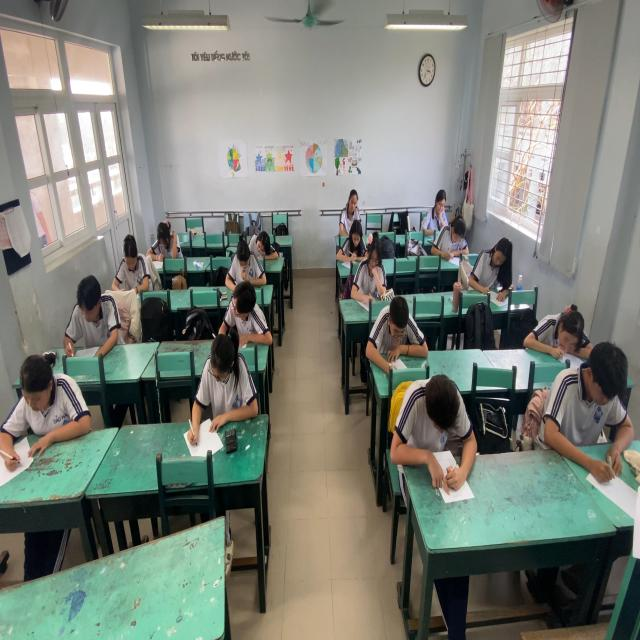cheating: (226, 284, 268, 346)
not_cheating: (549, 336, 640, 429), (8, 354, 94, 444), (399, 376, 483, 462), (366, 282, 428, 368), (66, 270, 119, 354), (206, 330, 252, 420), (525, 298, 593, 358), (109, 233, 154, 298), (354, 233, 395, 291), (230, 229, 266, 289), (140, 216, 182, 264), (438, 209, 473, 261), (477, 236, 513, 284), (246, 223, 276, 271), (424, 181, 455, 226), (333, 185, 364, 229), (338, 219, 369, 257)
